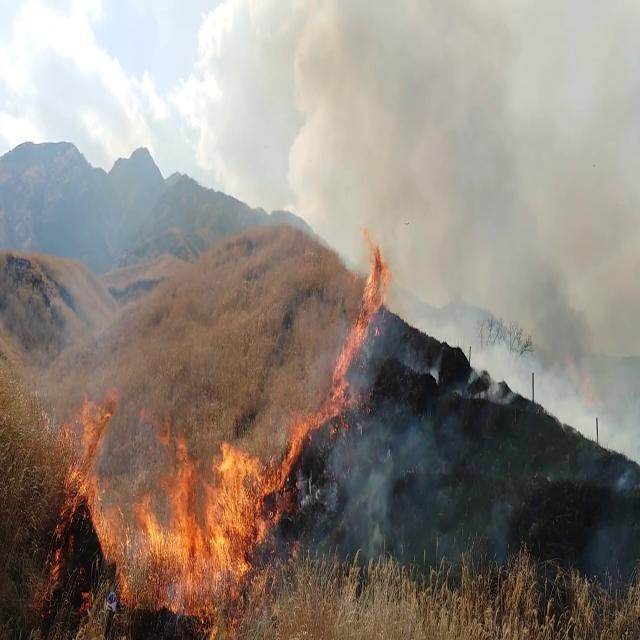Fire: (136, 430, 275, 608), (58, 381, 124, 580), (328, 228, 390, 414), (280, 394, 331, 480)
Smoke: (395, 0, 639, 499)
